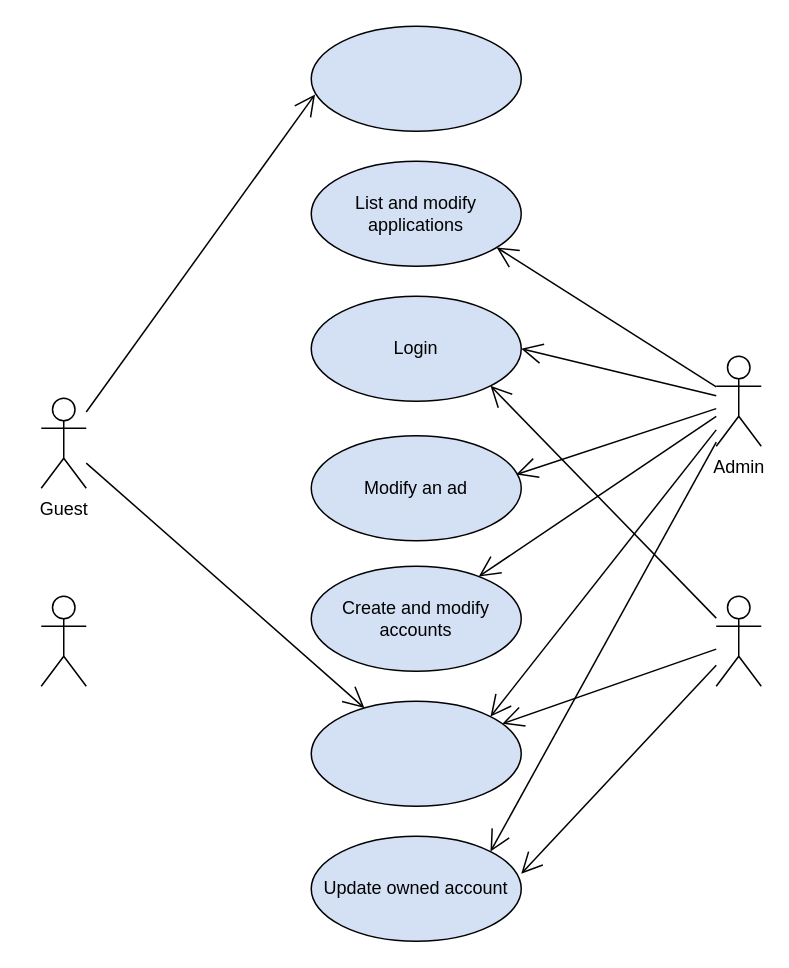
Some shapes in this 789 by 968 pixel diagram are drawn without their labels. The centre of each missing label's shape, as x and y in pixels:
"Apply to an ad" goes at pixel 415 753.
"Create user account" goes at pixel 415 78.
"Publisher" goes at pixel 63 640.
"User" goes at pixel 738 640.
